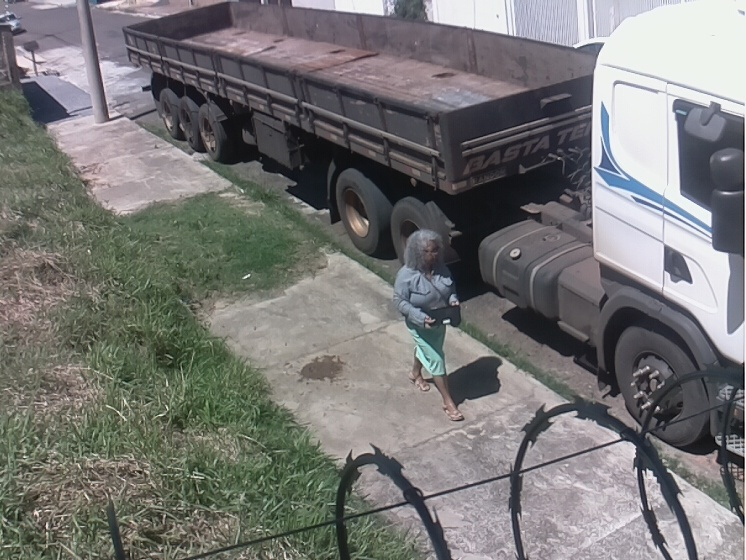person: (393, 229, 467, 422)
